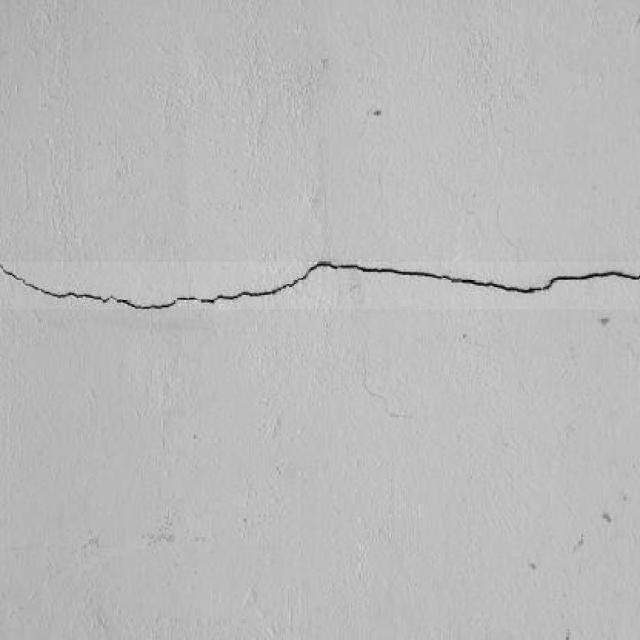Crack: (3, 415, 632, 638), (7, 308, 640, 472), (0, 255, 639, 311), (0, 223, 361, 267), (0, 256, 574, 273), (8, 257, 170, 305), (167, 273, 312, 306)
